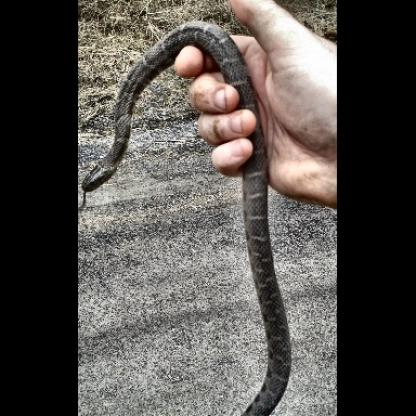Snake: (86, 6, 299, 416), (98, 0, 278, 226)
